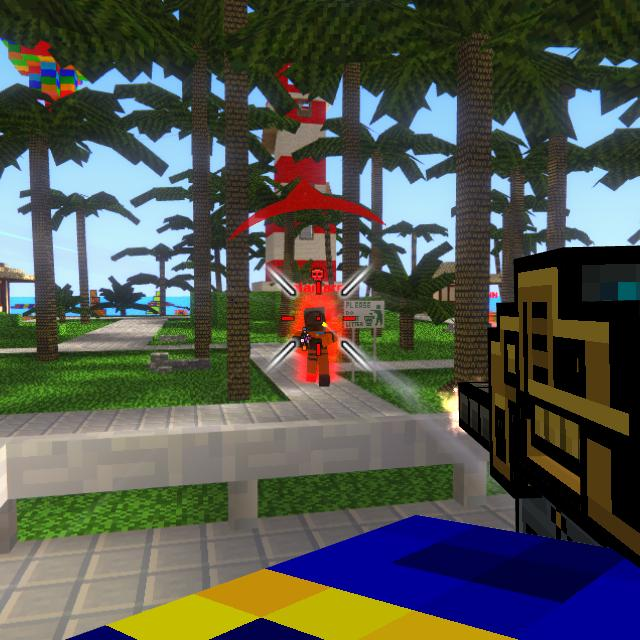Enemy: (294, 308, 340, 388)
